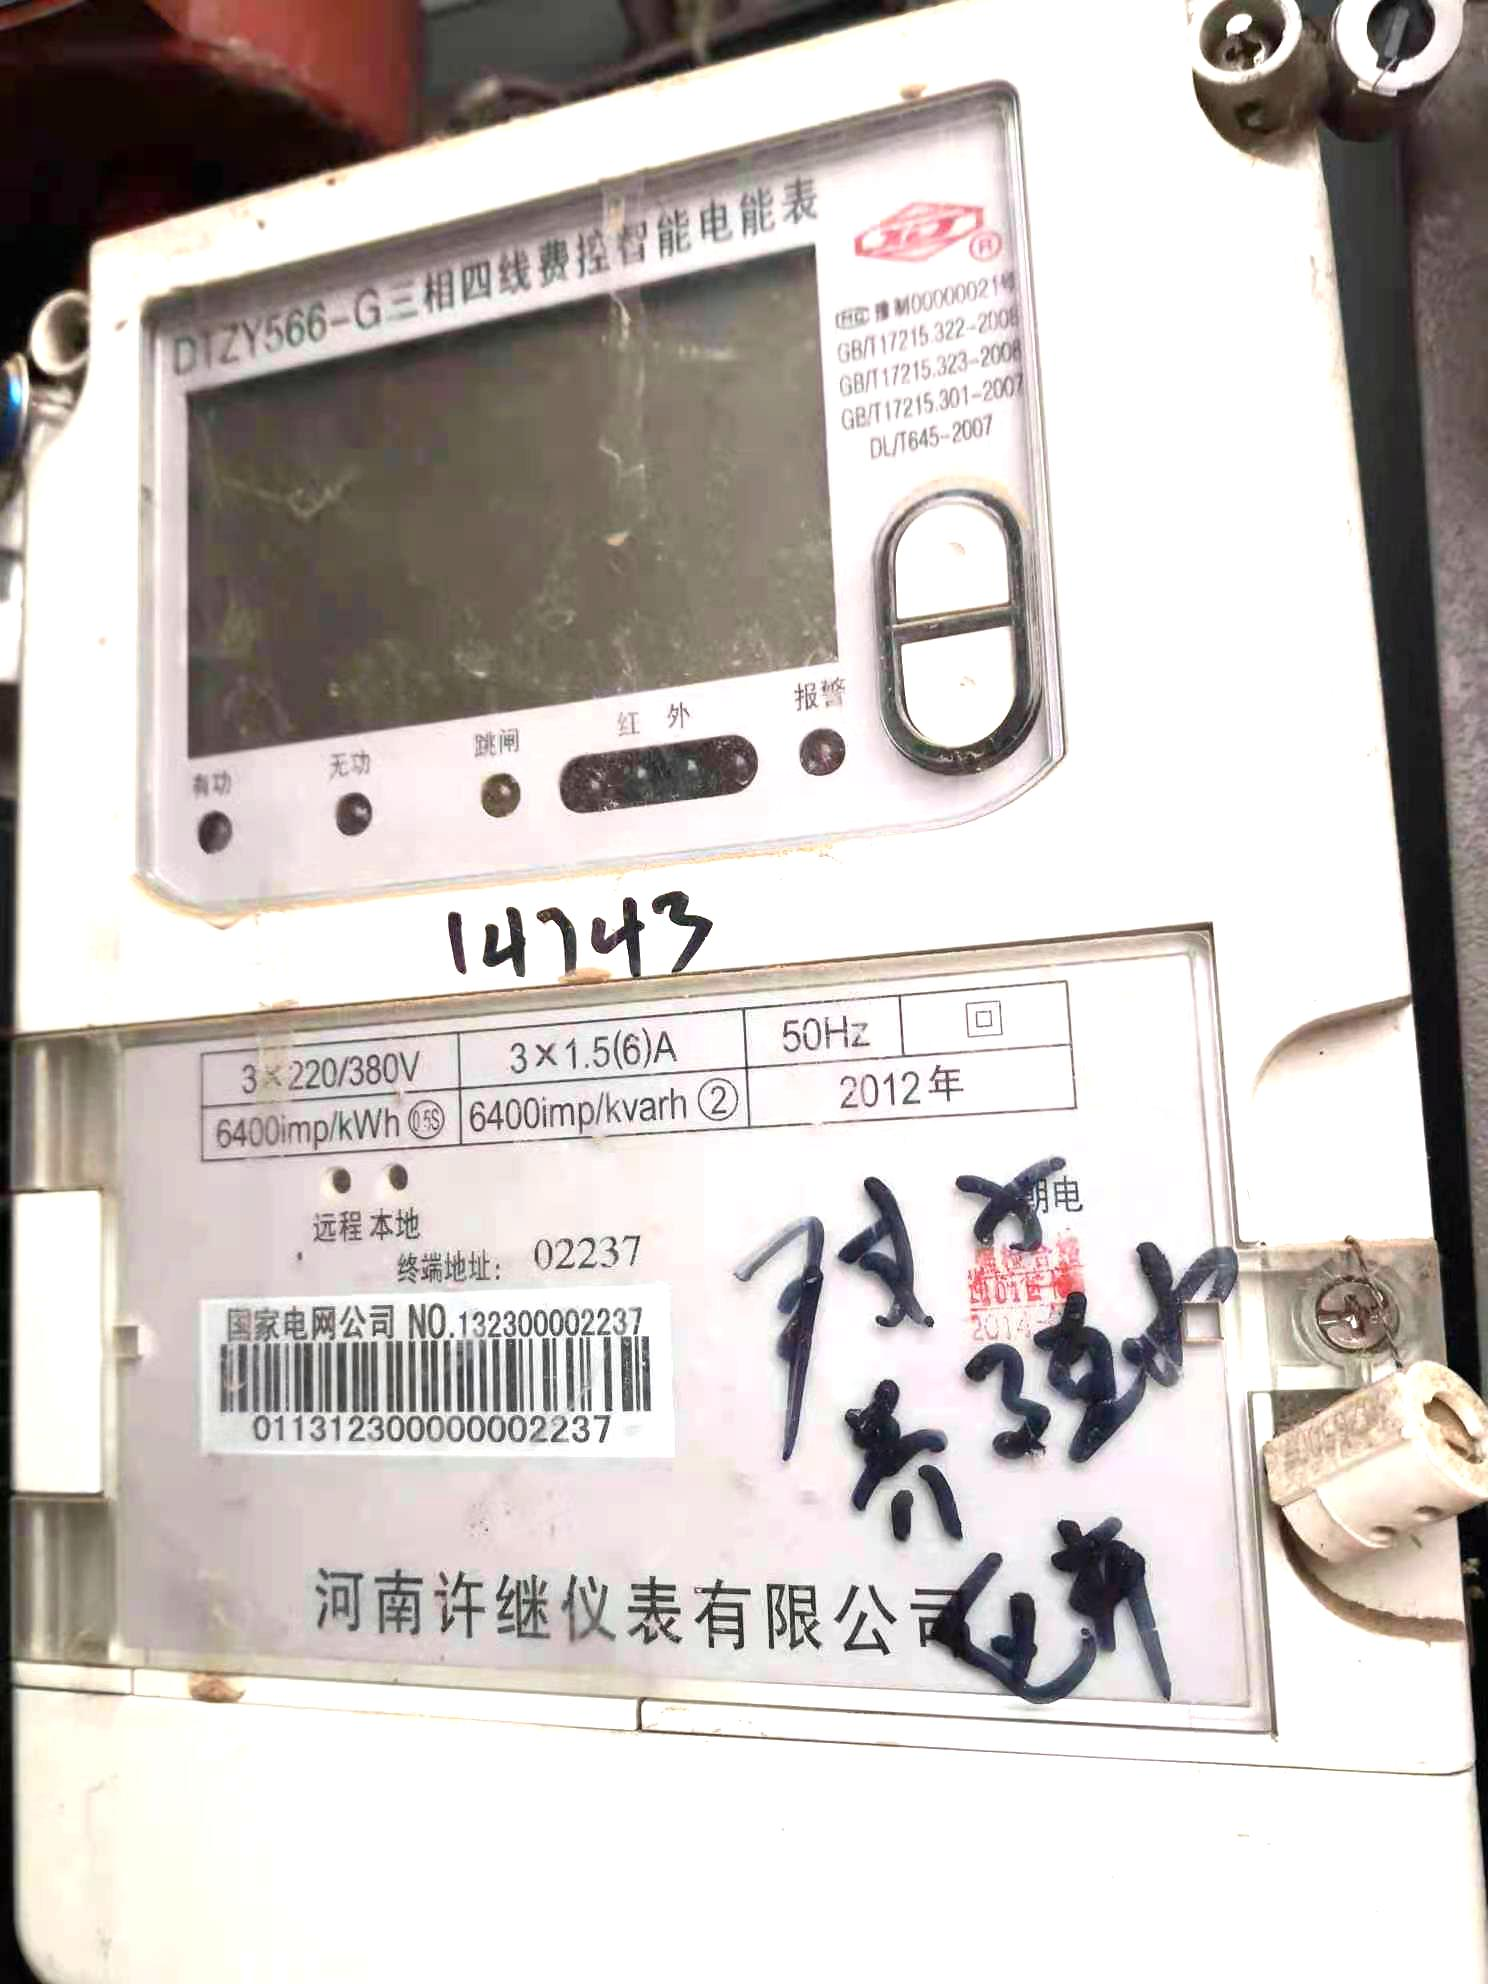digital: (2, 2, 1479, 1978)
